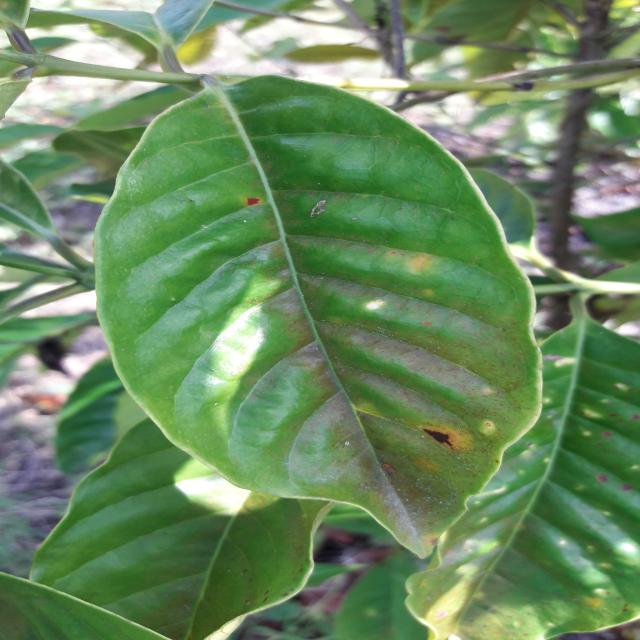Plaga-AranaRoja: (93, 75, 542, 561)
